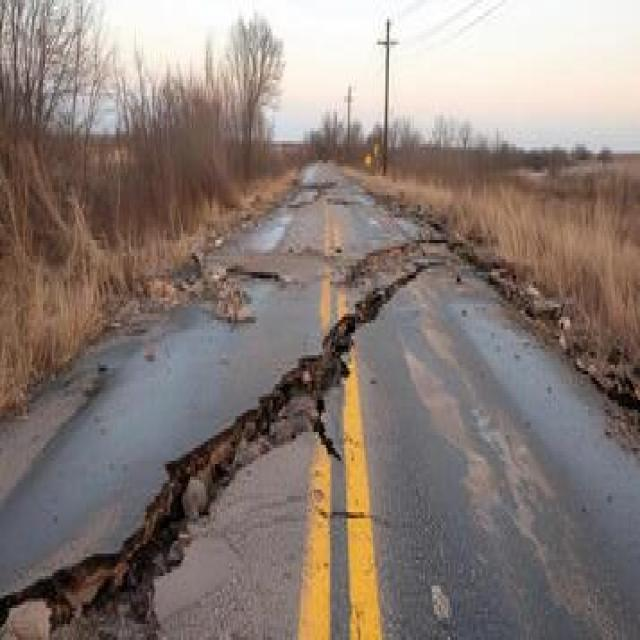road collapse: (7, 163, 640, 640)
